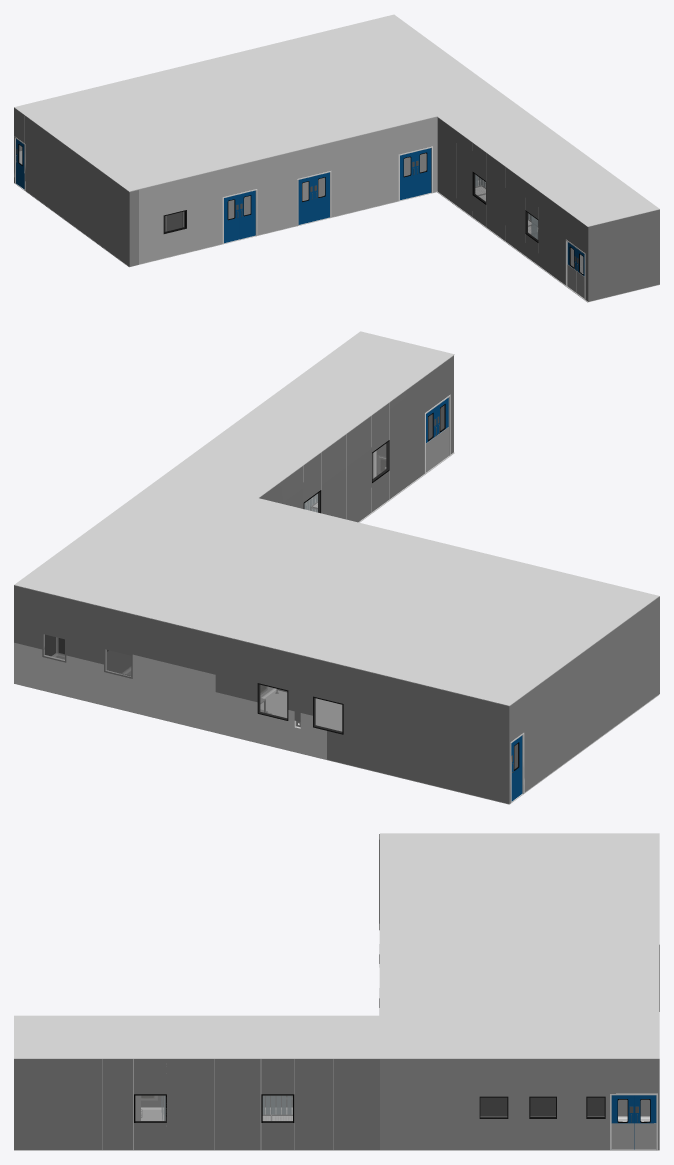
File: Opthalmic Vial Filling updated Room.fbx
The picture shows the model from 3 angles, top to bottom: view 1: azimuth 30°, elevation 25°; view 2: azimuth 150°, elevation 25°; view 3: azimuth 270°, elevation 25°; orthographic projection. The views are drawn at different scales.
Parts seen in each view (by area): view 1: Cilling, walls_grp1, Room3, Cube.026, pasted__pasted__pCube272 (×4), pasted__pasted__pCube273 (×3), Floor, Cube.148, Cube.149; view 2: Cilling, Cube.149, Cube.026, Room3, Floor, polySurface1349, polySurface1347, pasted__pasted__pCube279, pasted__pasted__pCube273; view 3: Cilling, Room3, Cube.005, Cube.012, pasted__pasted__pCube272, pasted__pasted__pCube273, Floor, polySurface1363, polySurface1364, Cube.013, Cube.014.
Boxes of the visible parts, bbox=[...] form: Cilling: bbox=[14, 14, 659, 226]; walls_grp1: bbox=[139, 117, 478, 264]; Room3: bbox=[437, 117, 659, 301]; Cube.026: bbox=[25, 116, 138, 266]; pasted__pasted__pCube272 (×4): bbox=[239, 148, 576, 292]; pasted__pasted__pCube273 (×3): bbox=[224, 152, 415, 243]; Floor: bbox=[14, 182, 659, 302]; Cube.148: bbox=[165, 153, 426, 231]; Cube.149: bbox=[14, 108, 24, 182]; Cilling: bbox=[14, 331, 659, 706]; Cube.149: bbox=[14, 585, 523, 803]; Cube.026: bbox=[514, 596, 659, 792]; Room3: bbox=[259, 355, 453, 522]; Floor: bbox=[14, 452, 659, 804]; polySurface1349: bbox=[314, 698, 342, 732]; polySurface1347: bbox=[259, 685, 287, 719]; pasted__pasted__pCube279: bbox=[511, 735, 522, 801]; pasted__pasted__pCube273: bbox=[437, 398, 448, 463]; Cilling: bbox=[14, 833, 659, 1058]; Room3: bbox=[14, 1059, 379, 1149]; Cube.005: bbox=[380, 1059, 656, 1149]; Cube.012: bbox=[480, 1098, 649, 1116]; pasted__pasted__pCube272: bbox=[611, 1095, 634, 1149]; pasted__pasted__pCube273: bbox=[634, 1095, 656, 1149]; Floor: bbox=[14, 1109, 659, 1150]; polySurface1363: bbox=[135, 1095, 165, 1122]; polySurface1364: bbox=[262, 1095, 292, 1122]; Cube.013: bbox=[480, 1097, 507, 1117]; Cube.014: bbox=[530, 1097, 555, 1116].
Size of the model in its own units: 1832 by 352 by 2216.
